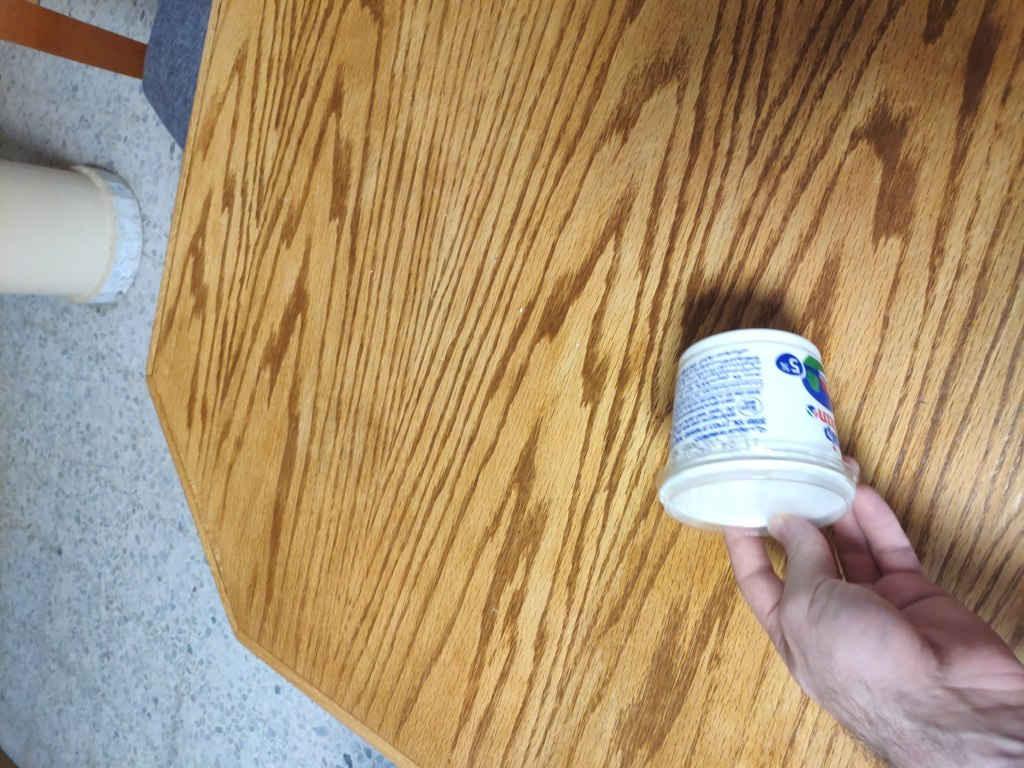Cotage: (637, 353, 854, 530)
